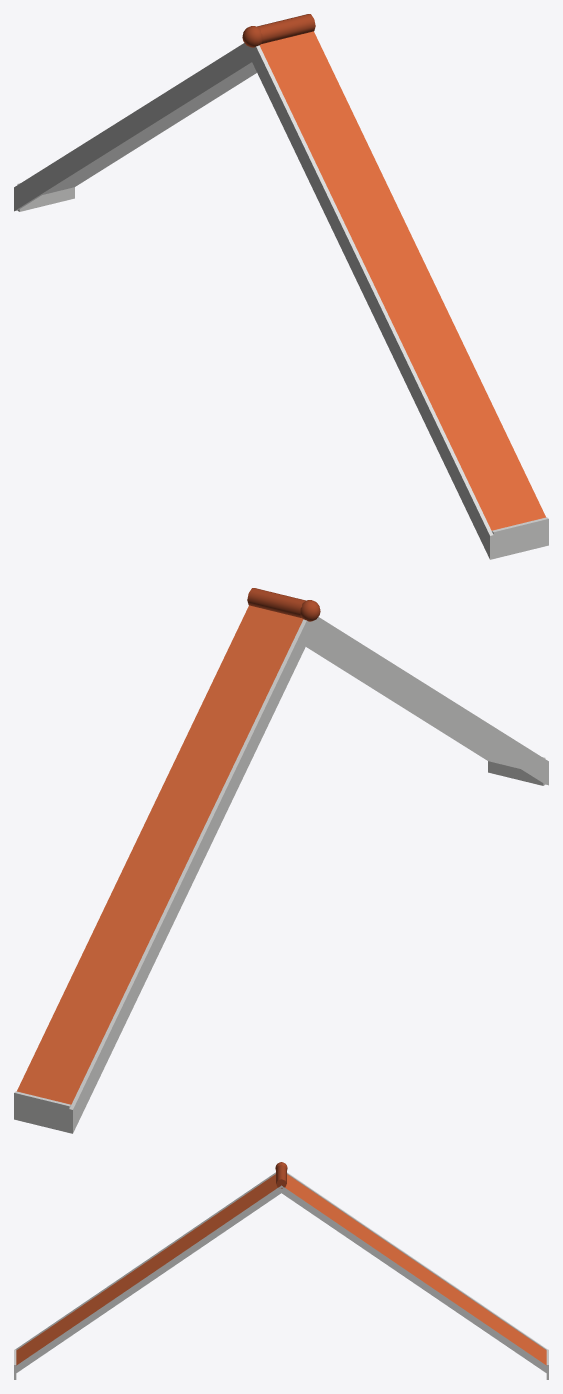
File: telhado_empena_v6_i75.glb
The picture shows the model from 3 angles, top to bottom: view 1: azimuth 30°, elevation 25°; view 2: azimuth 150°, elevation 25°; view 3: azimuth 270°, elevation 25°; orthographic projection. The views are drawn at different scales.
Parts seen in each view (by area): view 1: telhado_empena_v6_i75; view 2: telhado_empena_v6_i75; view 3: telhado_empena_v6_i75.
Boxes of the visible parts, x1,y1,x2,y2 form: telhado_empena_v6_i75: (14, 14, 548, 559); telhado_empena_v6_i75: (14, 588, 548, 1133); telhado_empena_v6_i75: (14, 1162, 548, 1379).
Size of the model in its own units: 0.57 by 2.91 by 7.
